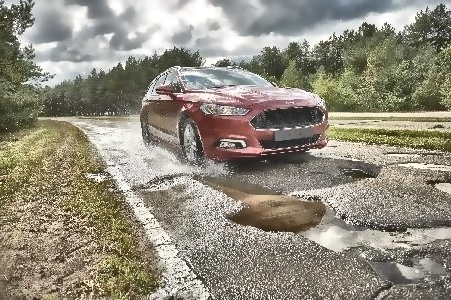pothole: (227, 193, 350, 234), (397, 160, 451, 172), (340, 166, 378, 178), (426, 178, 451, 194)
